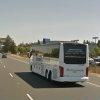Bus: (26, 41, 90, 86)
